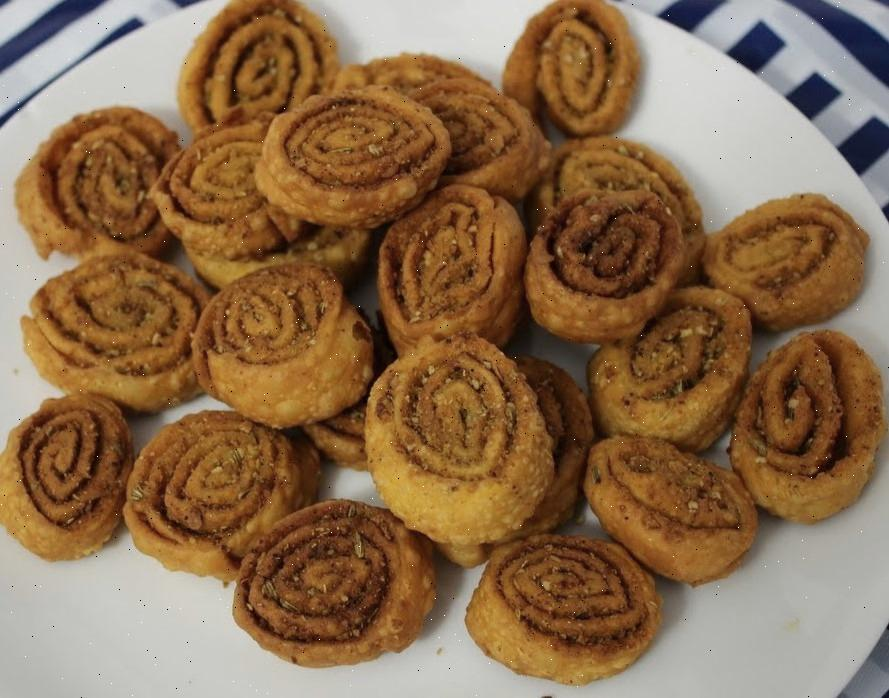bhakarwadi: (8, 2, 889, 681)
